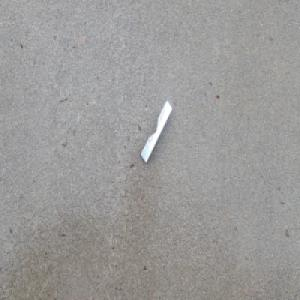ClampPart: (140, 99, 172, 164)
